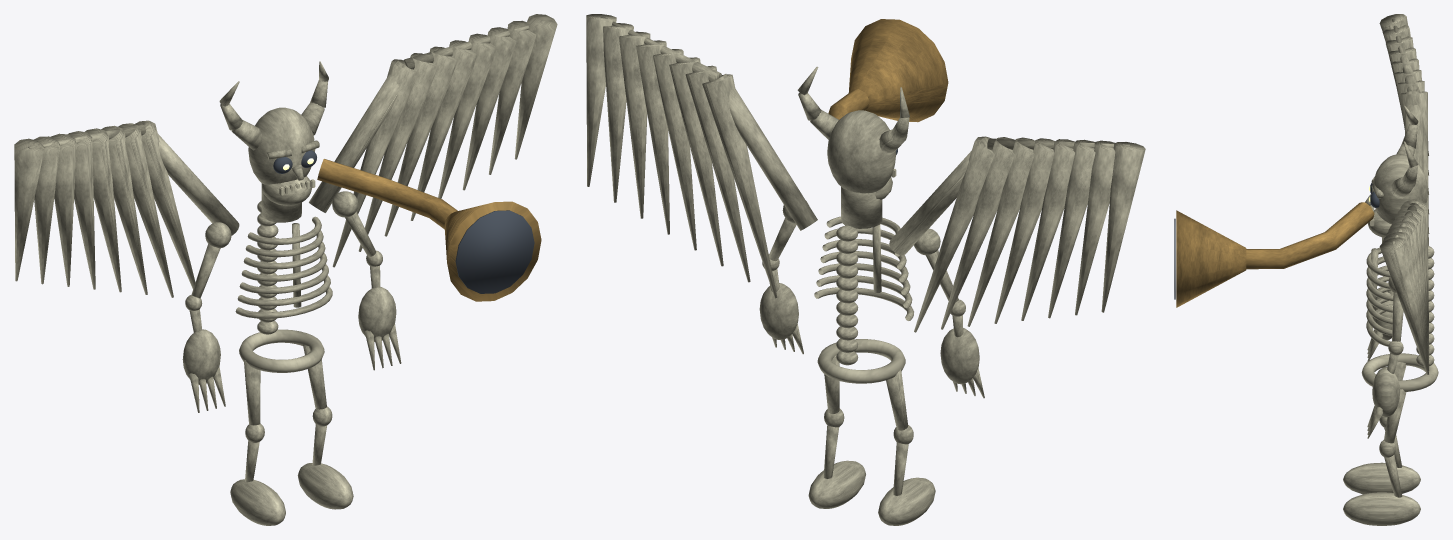
File: enemy_trumpeter.glb
The picture shows the model from 3 angles, left to right: view 1: azimuth 30°, elevation 25°; view 2: azimuth 150°, elevation 25°; view 3: azimuth 270°, elevation 25°; orthographic projection. The views are drawn at different scales.
Visible parts, largest first — view 1: Aged_bone.007, Aged_bone.006, Aged_bone, Aged_bone.005, Antique_brass, Eye_socket.001, Aged_bone.002, Aged_bone.004, Aged_bone.001, Aged_bone.003; view 2: Aged_bone.007, Aged_bone.006, Aged_bone, Antique_brass, Aged_bone.005, Aged_bone.001, Aged_bone.003, Aged_bone.002, Aged_bone.004; view 3: Antique_brass, Aged_bone.007, Aged_bone, Aged_bone.006, Aged_bone.005, Aged_bone.003, Aged_bone.004, Aged_bone.001, Aged_bone.002.
Part boxes in pixels (bbox=[...]): Aged_bone.007: bbox=[309, 14, 557, 267]; Aged_bone.006: bbox=[14, 120, 239, 297]; Aged_bone: bbox=[235, 201, 332, 372]; Aged_bone.005: bbox=[219, 61, 328, 222]; Antique_brass: bbox=[317, 159, 541, 301]; Eye_socket.001: bbox=[455, 210, 534, 293]; Aged_bone.002: bbox=[182, 222, 231, 412]; Aged_bone.004: bbox=[332, 191, 401, 370]; Aged_bone.001: bbox=[230, 360, 285, 525]; Aged_bone.003: bbox=[297, 344, 353, 509]; Aged_bone.007: bbox=[586, 14, 817, 298]; Aged_bone.006: bbox=[889, 136, 1145, 332]; Aged_bone: bbox=[814, 216, 913, 383]; Antique_brass: bbox=[828, 19, 948, 122]; Aged_bone.005: bbox=[797, 66, 909, 228]; Aged_bone.001: bbox=[878, 369, 935, 525]; Aged_bone.003: bbox=[808, 355, 865, 508]; Aged_bone.002: bbox=[914, 228, 984, 398]; Aged_bone.004: bbox=[759, 201, 809, 354]; Antique_brass: bbox=[1176, 202, 1374, 307]; Aged_bone.007: bbox=[1379, 199, 1429, 374]; Aged_bone: bbox=[1361, 246, 1438, 391]; Aged_bone.006: bbox=[1379, 14, 1429, 245]; Aged_bone.005: bbox=[1365, 105, 1427, 242]; Aged_bone.003: bbox=[1343, 389, 1420, 525]; Aged_bone.004: bbox=[1367, 276, 1403, 438]; Aged_bone.001: bbox=[1343, 361, 1420, 494]; Aged_bone.002: bbox=[1367, 290, 1393, 361].
Size of the model in its own units: 5.9 by 4.5 by 2.79.
Materials: 4 (2 with a texture image).
